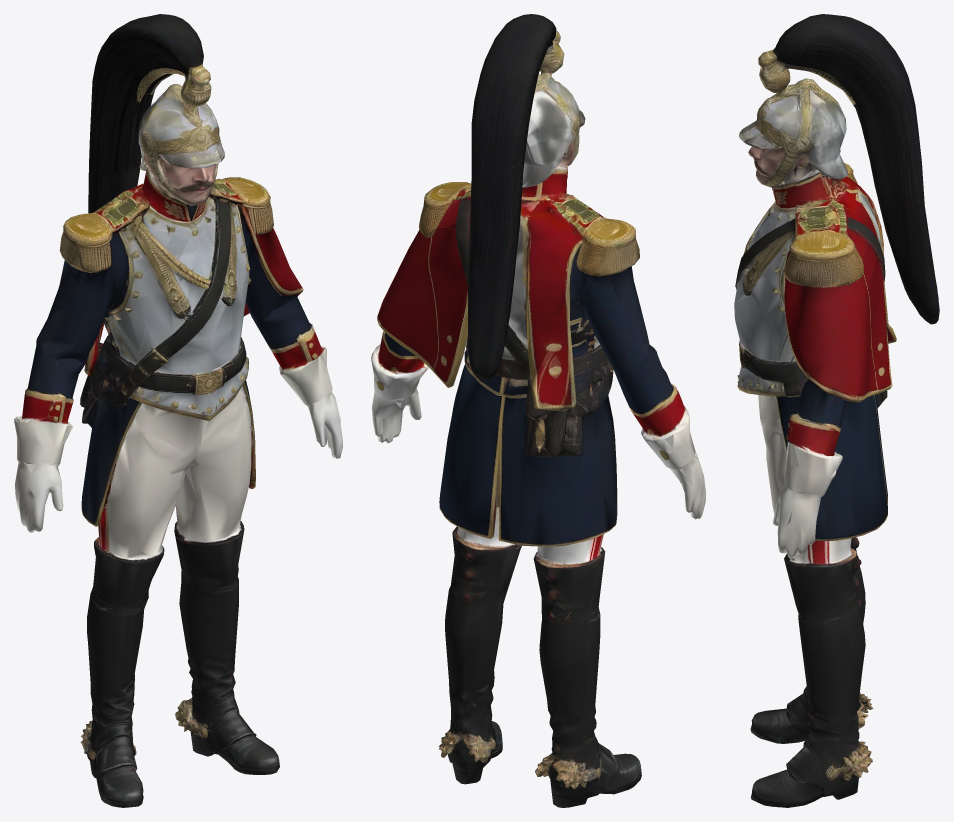
File: ebbe76e7-dbc7-4961-bf10-035acee68ee1.glb
3 renders of one model, left to right at view 1: azimuth 30°, elevation 25°; view 2: azimuth 150°, elevation 25°; view 3: azimuth 270°, elevation 25°, orthographic.
Visible parts, largest first — view 1: Mesh_0; view 2: Mesh_0; view 3: Mesh_0.
Part boxes in pixels (box(x1,y1,x2,y2)): Mesh_0: box(14, 14, 342, 807); Mesh_0: box(371, 14, 705, 807); Mesh_0: box(734, 14, 939, 807).
Bounding box in the file's own units: 0.777 × 1.75 × 0.4349.
1 material, 1 textured.
